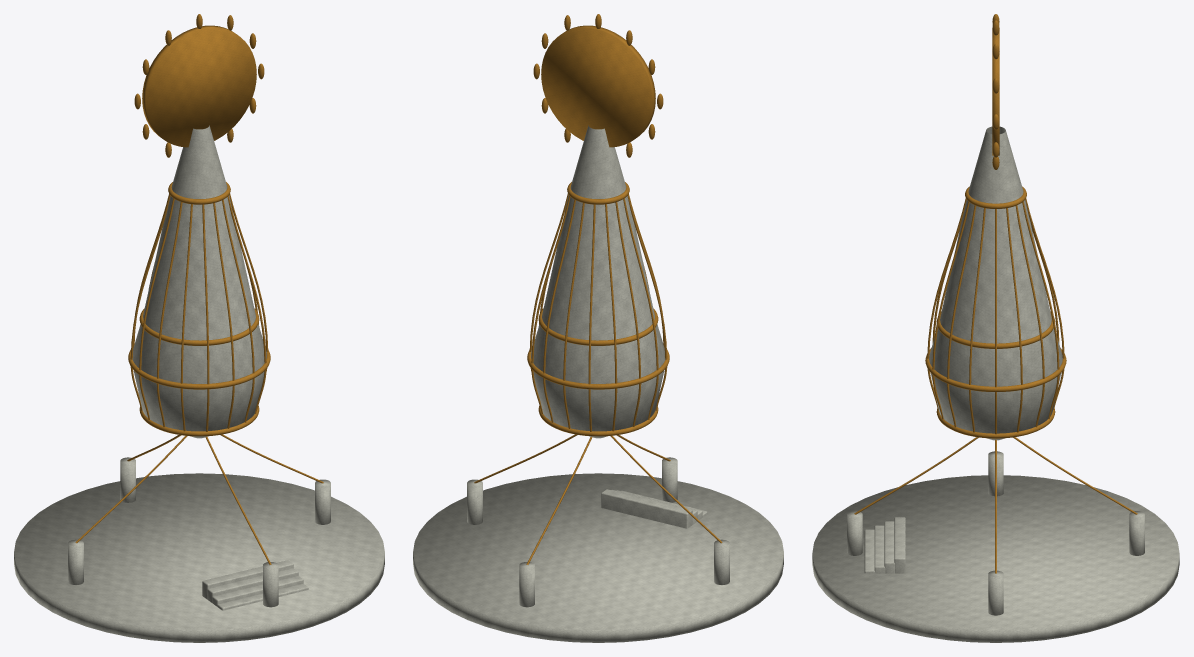
File: sunward.glb
3 views of the same model, side by side, from view 1: azimuth 30°, elevation 25°; view 2: azimuth 150°, elevation 25°; view 3: azimuth 270°, elevation 25° (orthographic).
Parts seen in each view (by area): view 1: sunward_Pearl limestone.001, sunward_Aged gold.001; view 2: sunward_Pearl limestone.001, sunward_Aged gold.001; view 3: sunward_Pearl limestone.001, sunward_Aged gold.001.
Part boxes in pixels (x1,y1,x2,y2): sunward_Pearl limestone.001: (14, 125, 384, 642); sunward_Aged gold.001: (75, 14, 323, 564); sunward_Pearl limestone.001: (413, 125, 783, 642); sunward_Aged gold.001: (474, 14, 722, 564); sunward_Pearl limestone.001: (812, 126, 1179, 642); sunward_Aged gold.001: (854, 14, 1137, 573).
Size of the model in its own units: 26 by 42.6 by 26.
Materials: 3 (3 with a texture image).
